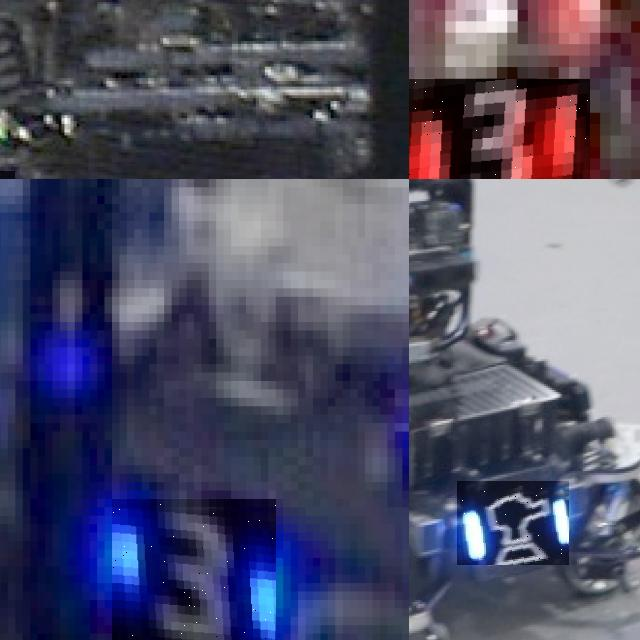B3: (112, 498, 275, 640)
Bs: (457, 481, 569, 565)
R3: (409, 78, 590, 179)
